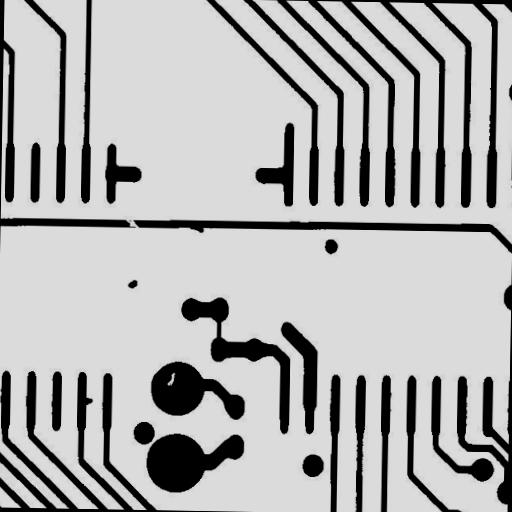copper: (120, 272, 144, 296)
open: (118, 210, 150, 240)
pin-hole: (160, 365, 182, 393)
short: (208, 310, 230, 348)
spur: (182, 216, 211, 240), (77, 390, 100, 412)
